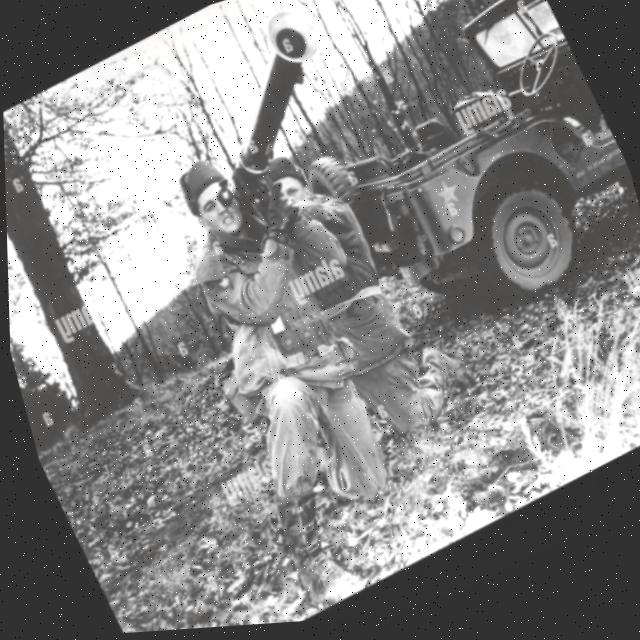rocket: (170, 0, 359, 209)
